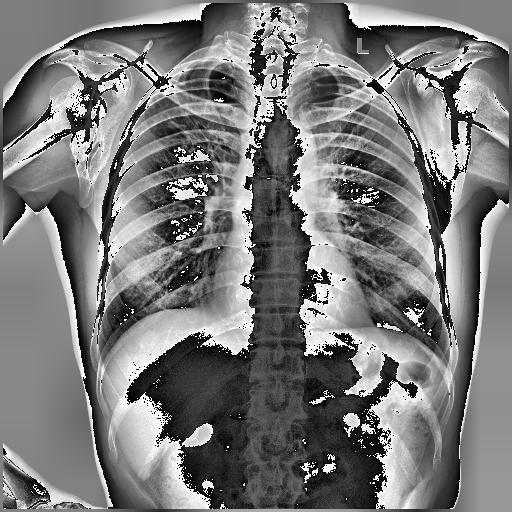0- Aortic enlargement: (270, 120, 316, 174)
11- Pleural thickening: (332, 62, 368, 84)
13- Pulmonary fibrosis: (144, 82, 220, 158), (145, 96, 219, 156)
